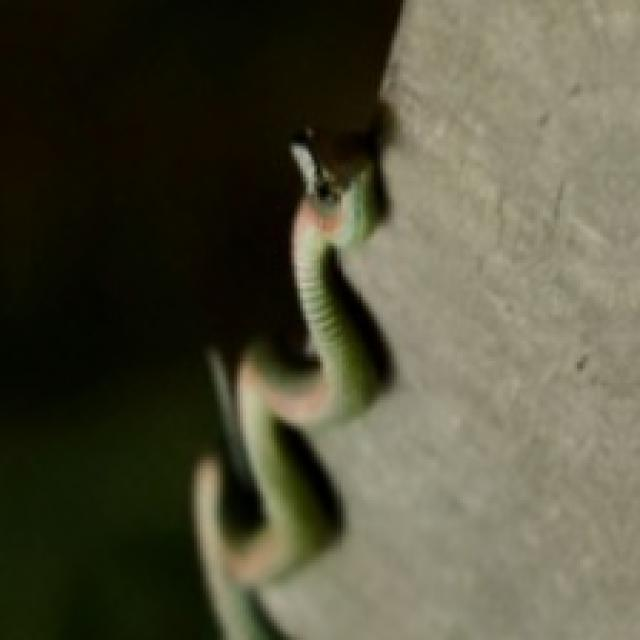paradise tree snake: (194, 129, 389, 637)
